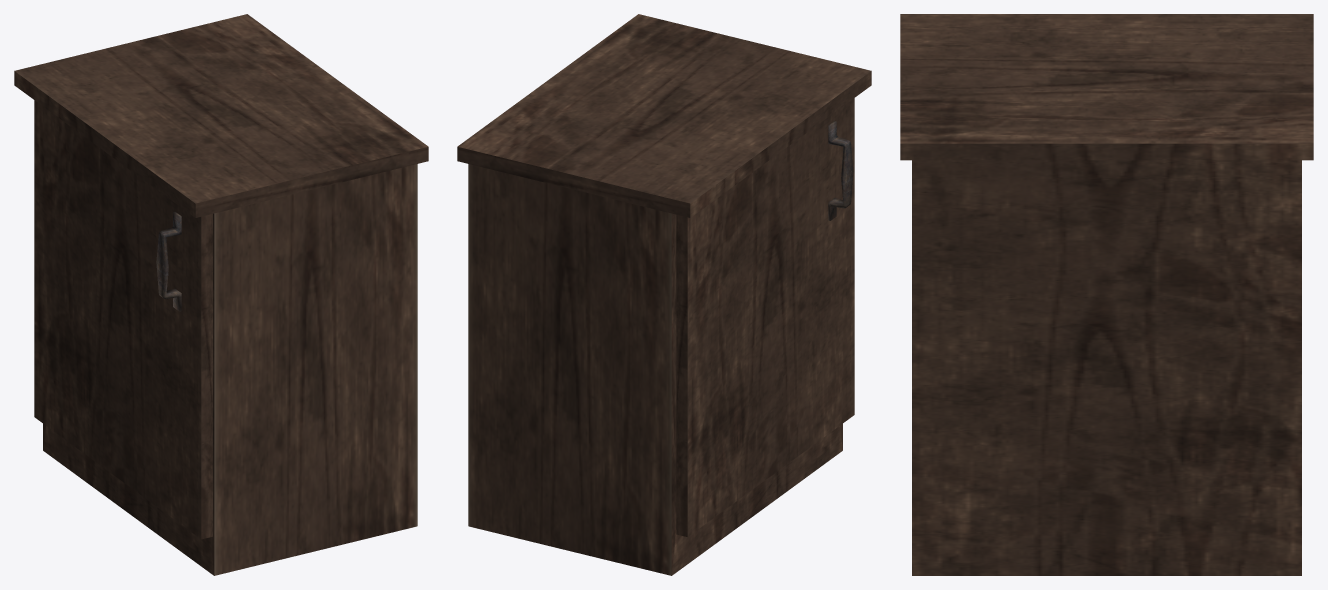
File: Cabinet02.fbx
The picture shows the model from 3 angles, left to right: view 1: azimuth 30°, elevation 25°; view 2: azimuth 150°, elevation 25°; view 3: azimuth 270°, elevation 25°; orthographic projection. The views are drawn at different scales.
Visible parts, largest first — view 1: Cube.030, Cube.031; view 2: Cube.030, Cube.031; view 3: Cube.030.
Part boxes in pixels (bbox=[...]): Cube.030: bbox=[14, 14, 428, 575]; Cube.031: bbox=[34, 100, 212, 539]; Cube.030: bbox=[457, 14, 871, 575]; Cube.031: bbox=[676, 98, 854, 536]; Cube.030: bbox=[900, 14, 1313, 575].
Bounding box in the file's own units: 1.36 × 1.79 × 2.08.
